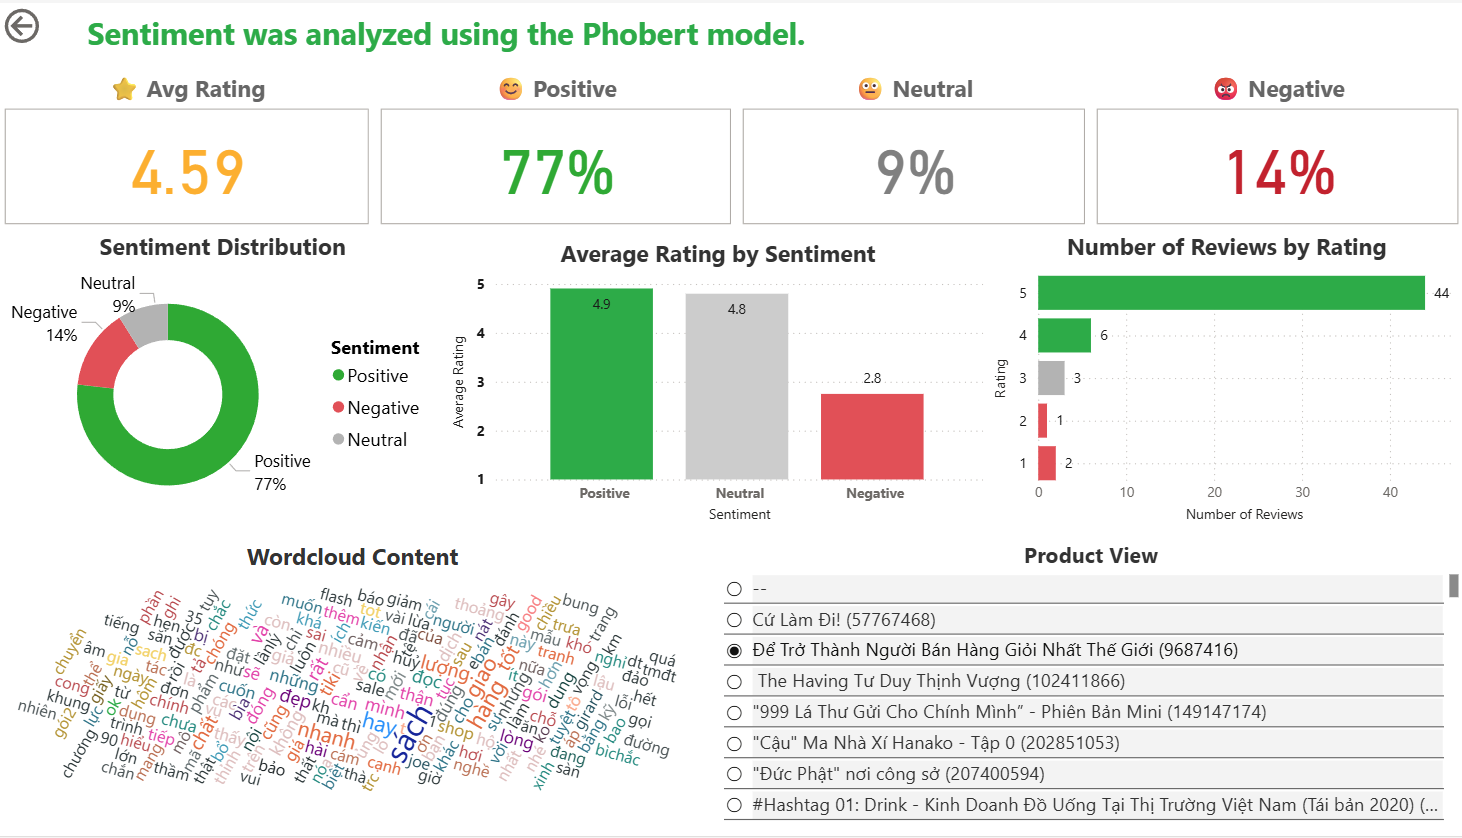

This screenshot's page, from the dashboard's own definition file:
{"tool":"powerbi","page":{"name":"Page 3","canvas":[1280,720],"ordinal":2},"visuals":[{"type":"textbox","box":[50,3,682,57],"z":0},{"type":"cardVisual","title":"⭐ Avg Rating","fields":{"Data":["Avg(comment_cleaned.rating)"]},"box":[0,60.3,328.6,138.1],"z":0,"group":"g1"},{"type":"group","id":"g1","title":"Group 1","box":[0,60.3,1280,138.1],"z":1000},{"type":"cardVisual","title":"😊 Positive","fields":{"Data":["comment_cleaned.Positive %"]},"box":[328.6,60.3,316.4,138.1],"z":1000,"group":"g1"},{"type":"cardVisual","title":"😐 Neutral","fields":{"Data":["comment_cleaned.Neutral %"]},"box":[645,60.3,309.1,138.1],"z":2000,"group":"g1"},{"type":"donutChart","title":"Sentiment Distribution","fields":{"Category":["comment_cleaned.sentiment_phobert"],"Y":["CountNonNull(comment_cleaned.comment_id)"]},"box":[0,198.4,391,260.7],"z":2000},{"type":"cardVisual","title":"😡 Negative","fields":{"Data":["comment_cleaned.Negative %"]},"box":[954.1,60.3,326.2,138.1],"z":3000,"group":"g1"},{"type":"WordCloud1447959067750","title":"Wordcloud Content","fields":{"Category":["comment_cleaned.content"],"Values":["Sum(comment_cleaned.comment_id)"]},"box":[0,468.8,617.6,250.9],"z":3000},{"type":"actionButton","box":[0,0,100,40],"z":4000},{"type":"clusteredColumnChart","title":"Average Rating by Sentiment","fields":{"Category":["comment_cleaned.sentiment_phobert"],"Y":["Avg(comment_cleaned.rating)"]},"box":[391,204.3,473.7,254.8],"z":5000},{"type":"clusteredBarChart","title":"Number of Reviews by Rating","fields":{"Category":["comment_cleaned.rating"],"Y":["CountNonNull(comment_cleaned.comment_id)"]},"box":[864.7,198.4,415.3,260.7],"z":6000},{"type":"listSlicer","title":"Product View","fields":{"Values":["book_data_cleaned_forPowerBI.Product Display"]},"box":[628,469,652,251],"z":7000}]}

Visuals, with their boxes in screenshot pixels (x1, y1, x2, y2), scaled from the page's 1280x720 canvas onto the 1462x838 screenshot:
textbox: 57:3:836:70
"⭐ Avg Rating" cardVisual: 0:70:375:231
"Group 1" group: 0:70:1461:231
"😊 Positive" cardVisual: 375:70:737:231
"😐 Neutral" cardVisual: 737:70:1090:231
"Sentiment Distribution" donutChart: 0:231:447:534
"😡 Negative" cardVisual: 1090:70:1461:231
"Wordcloud Content" WordCloud1447959067750: 0:546:705:837
actionButton: 0:0:114:47
"Average Rating by Sentiment" clusteredColumnChart: 447:238:988:534
"Number of Reviews by Rating" clusteredBarChart: 988:231:1461:534
"Product View" listSlicer: 717:546:1461:837
